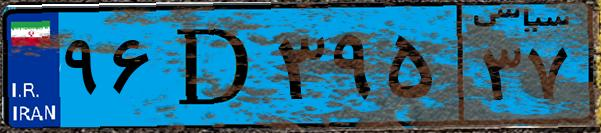3: (270, 28, 330, 110), (475, 38, 525, 113)
5: (385, 28, 445, 110)
6: (110, 28, 158, 98)
7: (525, 38, 570, 115)
9: (330, 28, 385, 110), (57, 26, 110, 100)
D: (158, 12, 270, 120)
